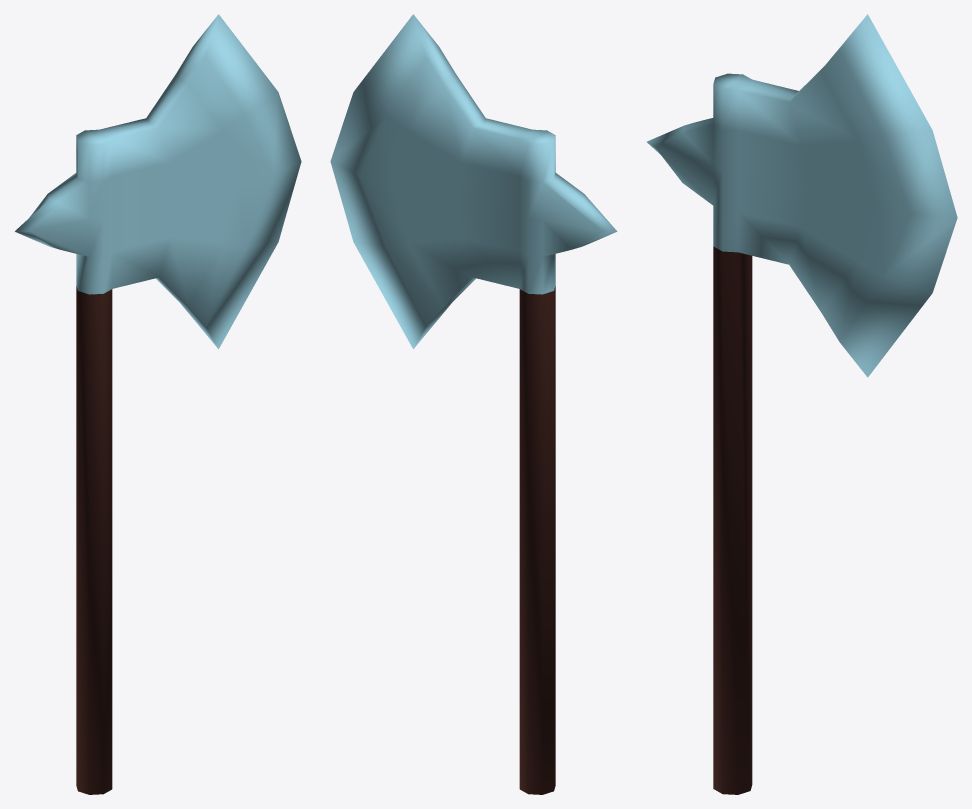
Rendered from PickupWeaponAxe.dae.
The picture shows the model from 3 angles, left to right: view 1: azimuth 30°, elevation 25°; view 2: azimuth 150°, elevation 25°; view 3: azimuth 330°, elevation 25°; orthographic projection. The views are drawn at different scales.
Parts seen in each view (by area): view 1: PickupWeaponAxe; view 2: PickupWeaponAxe; view 3: PickupWeaponAxe.
Boxes of the visible parts, x1,y1,x2,y2 form: PickupWeaponAxe: (15, 14, 301, 794); PickupWeaponAxe: (330, 14, 617, 794); PickupWeaponAxe: (646, 14, 957, 794).
Size of the model in its own units: 0.3538 by 0.0401 by 0.875.
